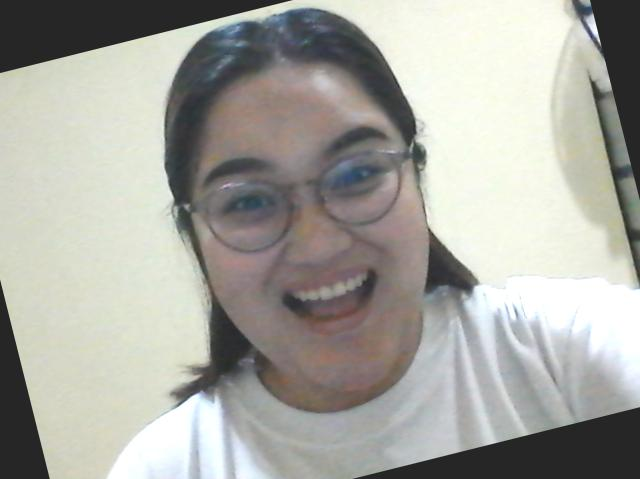senang: (156, 40, 454, 386)
